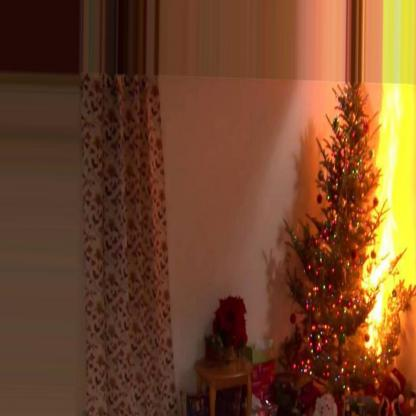fire: (360, 0, 415, 348)
other: (208, 276, 255, 360)
